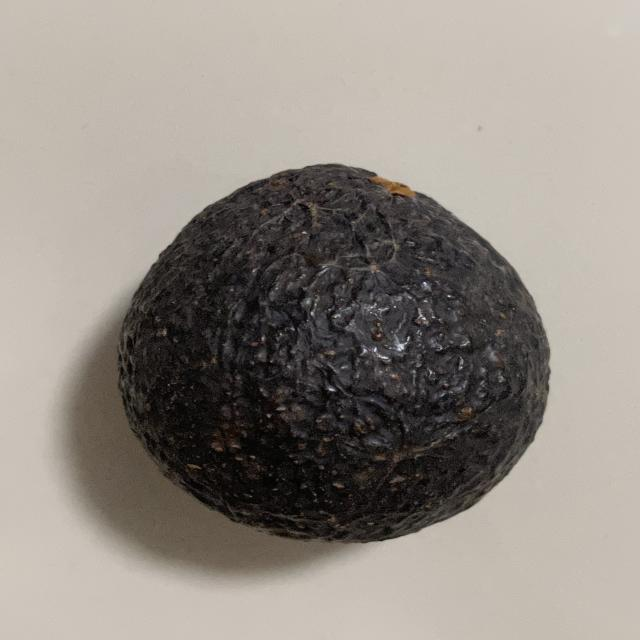Level2: (110, 157, 558, 548)
